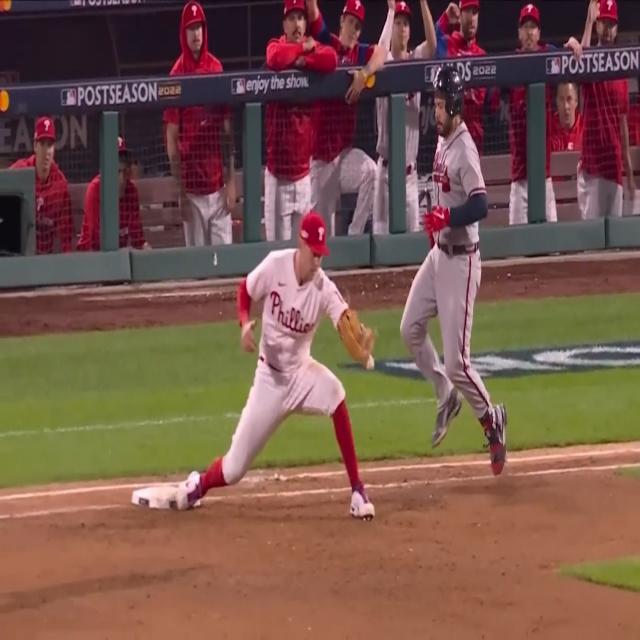baseball: (363, 352, 376, 374)
